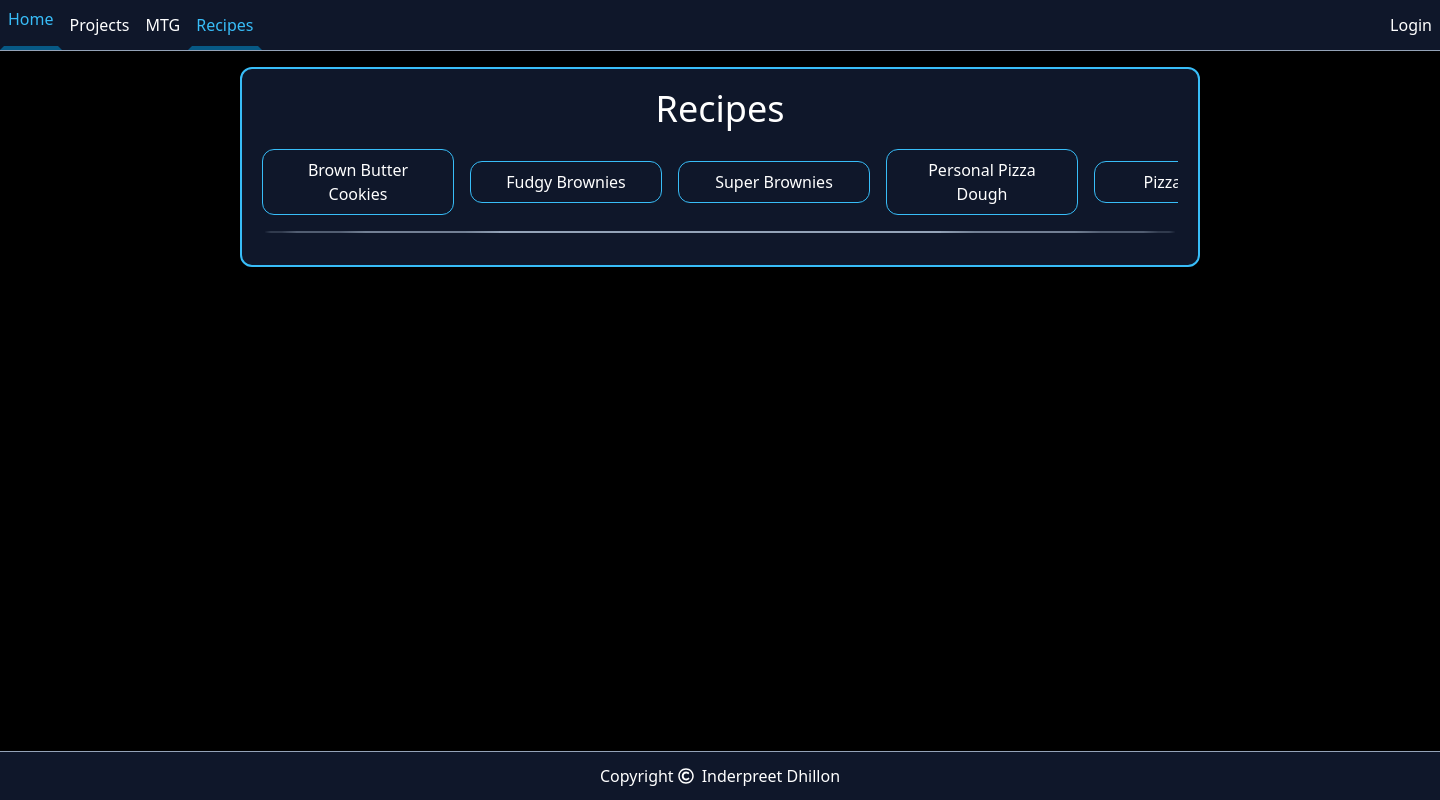
Test: Recipes › should show recipe
Click the button "Brown Butter Cookies".
click(358, 182)  # box left=262, top=149, right=454, bottom=215
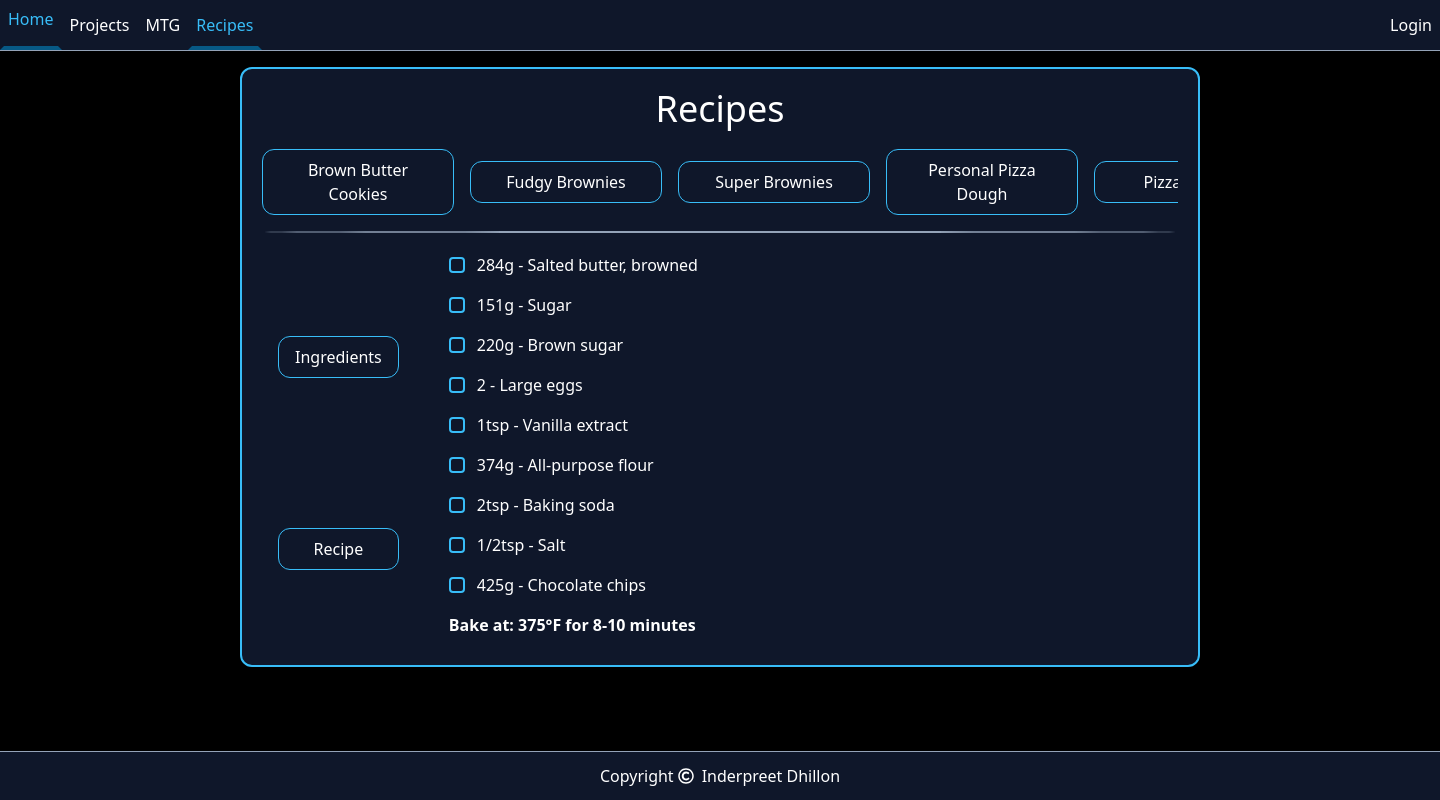
Click the button "Recipe".
click(339, 549)  # box left=278, top=528, right=399, bottom=570
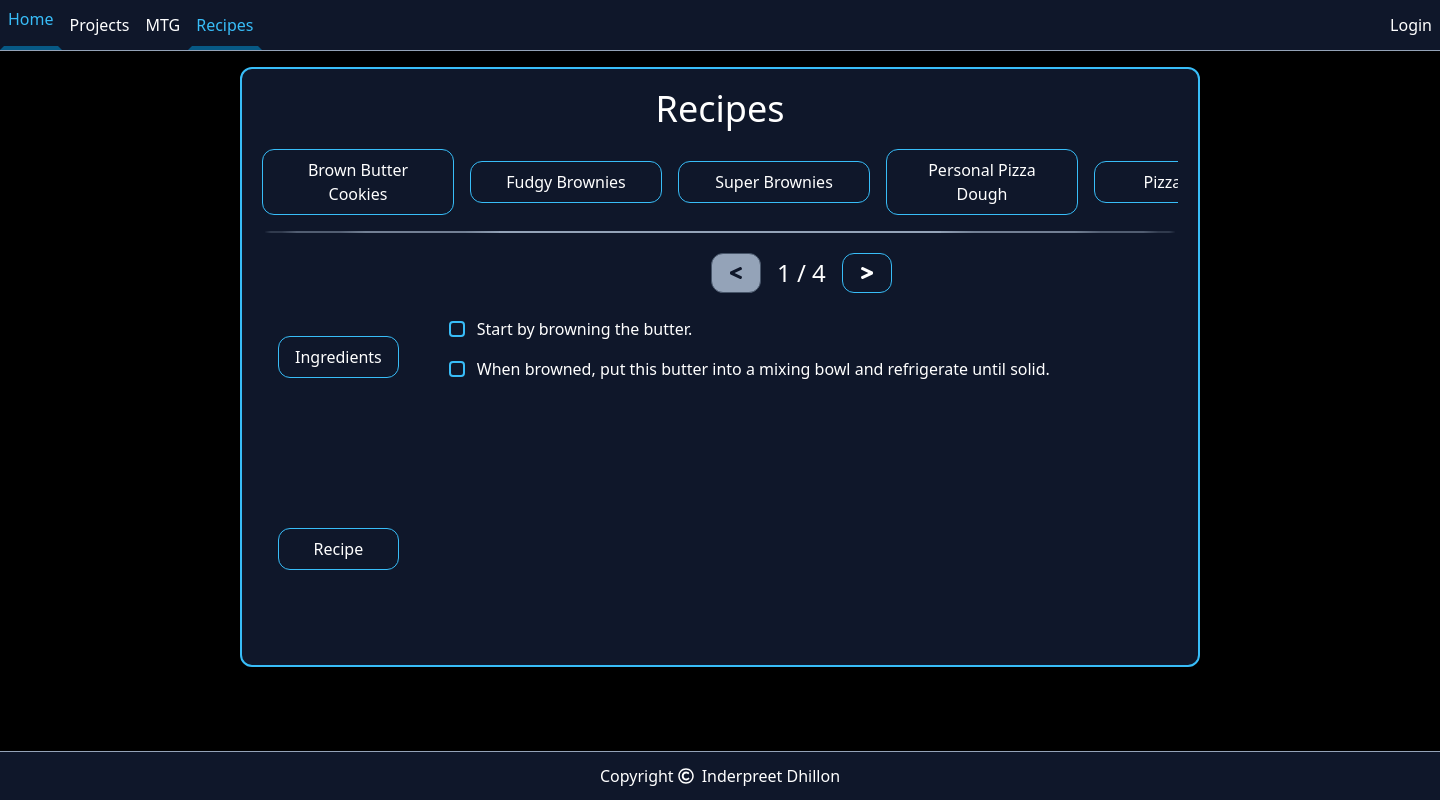
Now the text "1 / 4" is shown, box left=777, top=257, right=826, bottom=289
